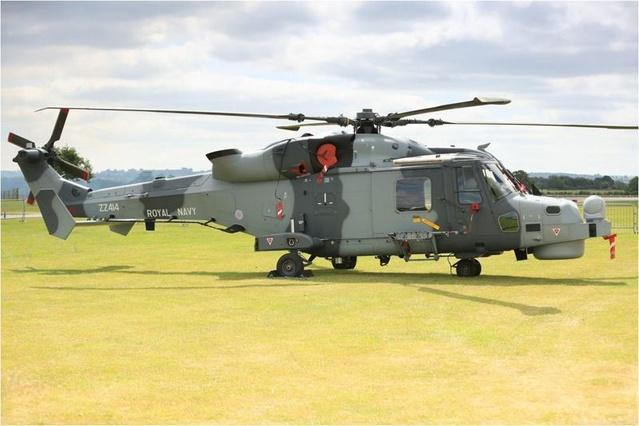airplane: (5, 92, 639, 276)
